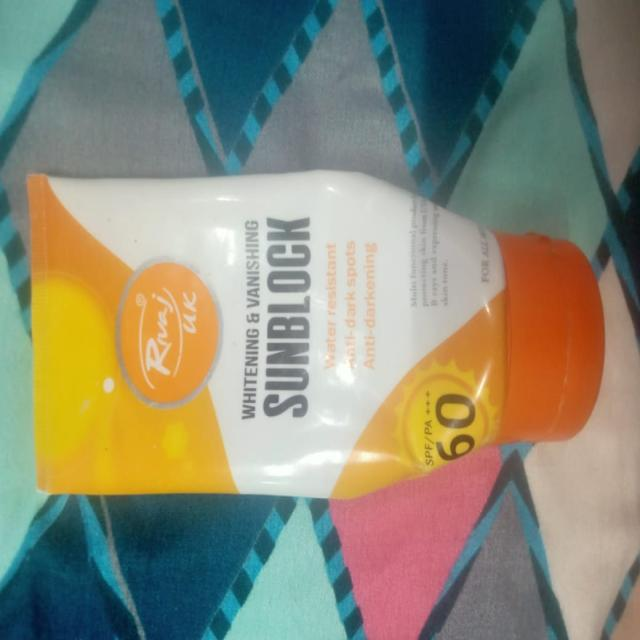sun block: (22, 136, 617, 513)
